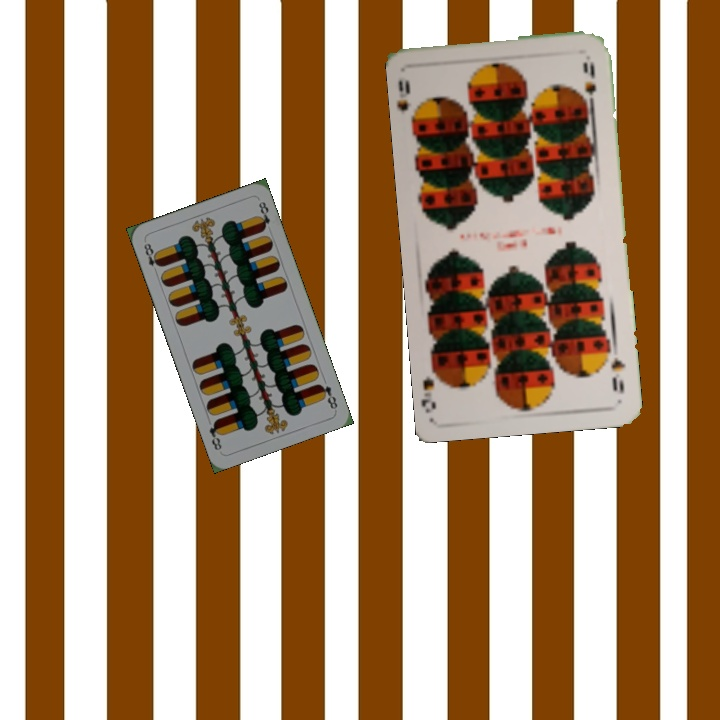E8: (140, 239, 164, 277), (314, 380, 340, 412)
S9: (607, 341, 628, 396), (401, 77, 423, 127)
